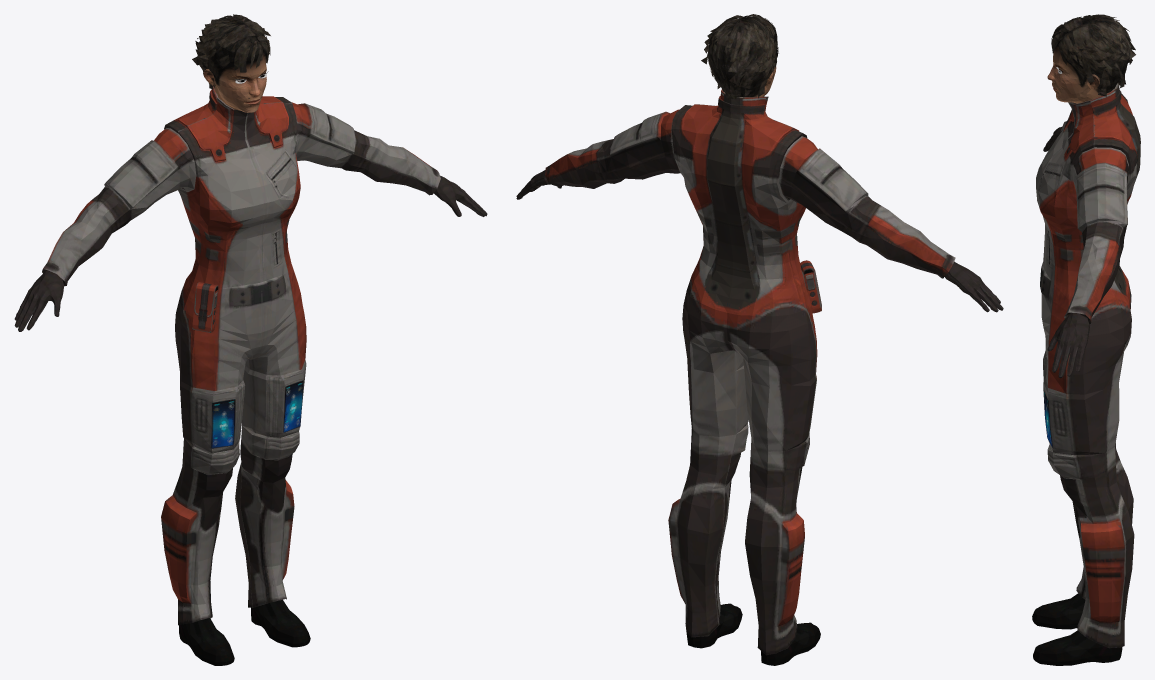
Rendered from malik.obj.
3 renders of one model, left to right at view 1: azimuth 30°, elevation 25°; view 2: azimuth 150°, elevation 25°; view 3: azimuth 270°, elevation 25°, orthographic. The views are drawn at different scales.
Parts seen in each view (by area): view 1: 41788918_obj, 7349e1f0_obj, 53fd77c8_obj; view 2: 41788918_obj, 53fd77c8_obj, 7349e1f0_obj; view 3: 41788918_obj, 53fd77c8_obj, 7349e1f0_obj.
Part boxes in pixels (x1=…): 41788918_obj: x1=14, y1=85, x2=487, y2=665; 7349e1f0_obj: x1=201, y1=17, x2=267, y2=112; 53fd77c8_obj: x1=192, y1=14, x2=270, y2=89; 41788918_obj: x1=516, y1=89, x2=1003, y2=665; 53fd77c8_obj: x1=701, y1=14, x2=778, y2=99; 7349e1f0_obj: x1=708, y1=16, x2=777, y2=97; 41788918_obj: x1=1032, y1=83, x2=1140, y2=665; 53fd77c8_obj: x1=1051, y1=14, x2=1135, y2=96; 7349e1f0_obj: x1=1047, y1=15, x2=1130, y2=103.
Bounding box in the file's own units: 47.84 × 59.77 × 9.45.
